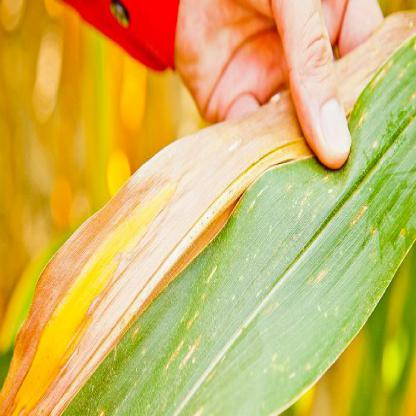corn gray leaf spot: (48, 129, 310, 415)
